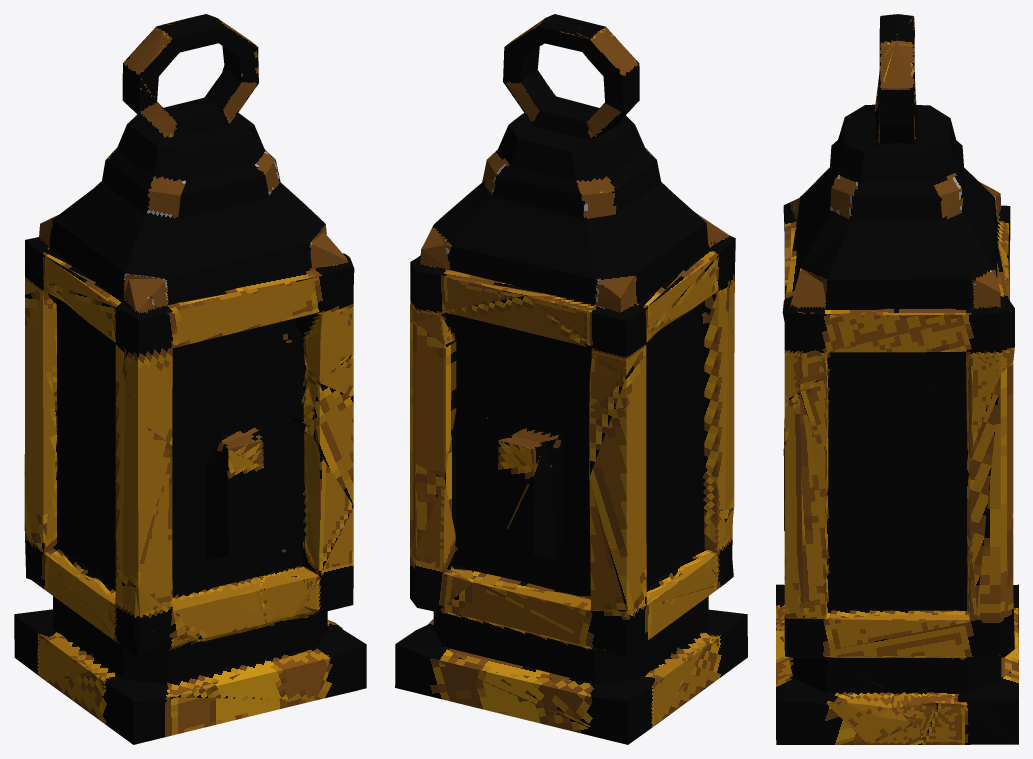
The picture shows the model from 3 angles, left to right: view 1: azimuth 30°, elevation 25°; view 2: azimuth 150°, elevation 25°; view 3: azimuth 270°, elevation 25°; orthographic projection.
Parts seen in each view (by area): view 1: OBJ090; view 2: OBJ090; view 3: OBJ090.
Part boxes in pixels (x1=…): OBJ090: x1=14, y1=14, x2=366, y2=744; OBJ090: x1=395, y1=14, x2=747, y2=744; OBJ090: x1=776, y1=14, x2=1018, y2=744.
Bounding box in the file's own units: 0.1555 × 0.4116 × 0.1374.
1 material, 1 textured.
